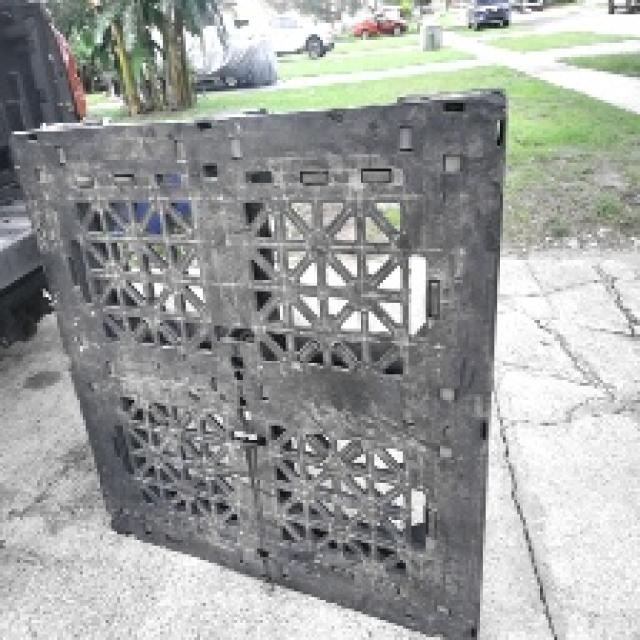igps: (5, 83, 518, 640)
